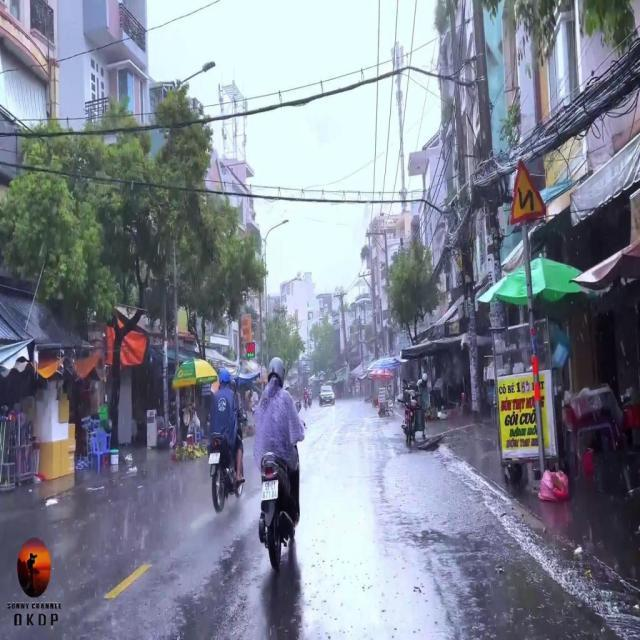201-cho-ngoat-nguy-hiem: (511, 161, 549, 223)
